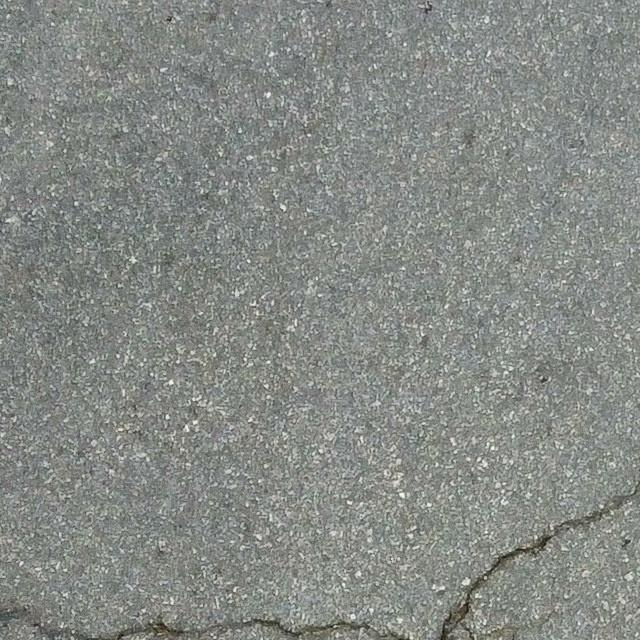TransverseCrack: (440, 484, 638, 640), (1, 607, 410, 640)
